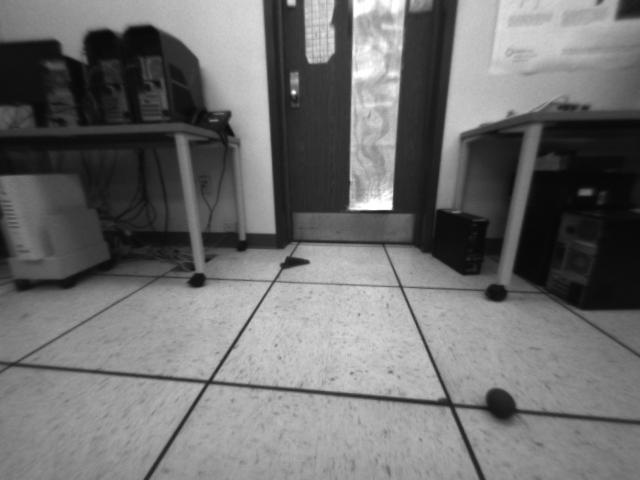dogtoy: (478, 380, 526, 426)
